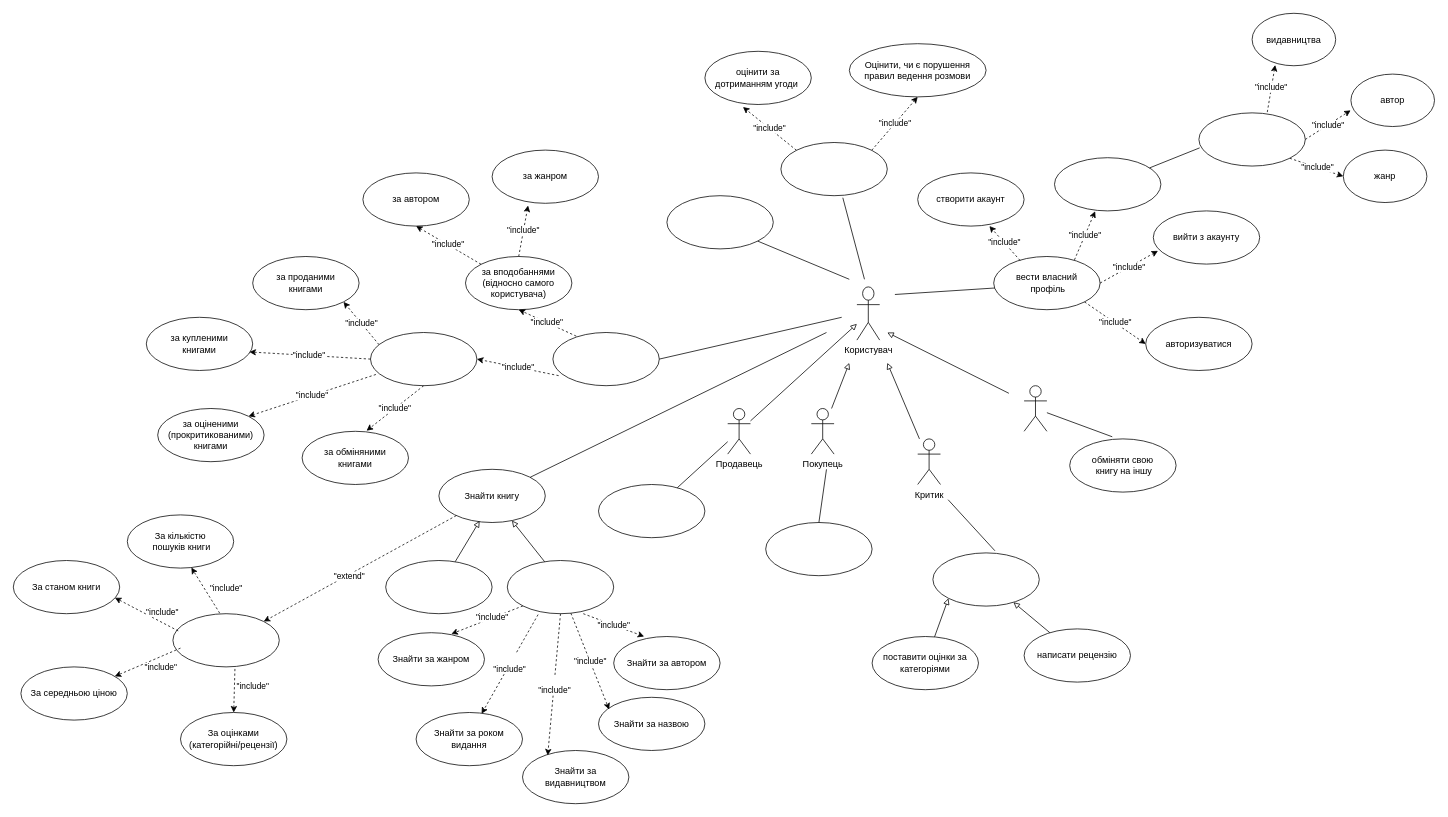
Image size: 1448x817. Some labels were removed from this diagram. The shapes that lost their labels are listed below. From the top down, each one's box as (x1, y1, x2, y2) in pixels, then its label:
(1198, 112, 1305, 166): вказати вподобання щодо книг
(780, 142, 887, 196): Оцінити користувача
(1054, 157, 1161, 211): редагувати профіль
(666, 195, 773, 249): ініціалізувати чат стосовно книги
(370, 332, 477, 386): оцінити за активністю (відносно інших)
(552, 332, 659, 386): Отримати рейтинг користувача
(1023, 385, 1047, 431): Обмінювач
(598, 484, 705, 538): продати книгу
(765, 522, 872, 576): купити книгу
(385, 560, 492, 614): Отримати рекомендацію
(507, 560, 614, 614): Знайти за запитом
(932, 552, 1039, 606): оцінити книгу
(172, 613, 279, 667): отримати рейтинг книги
